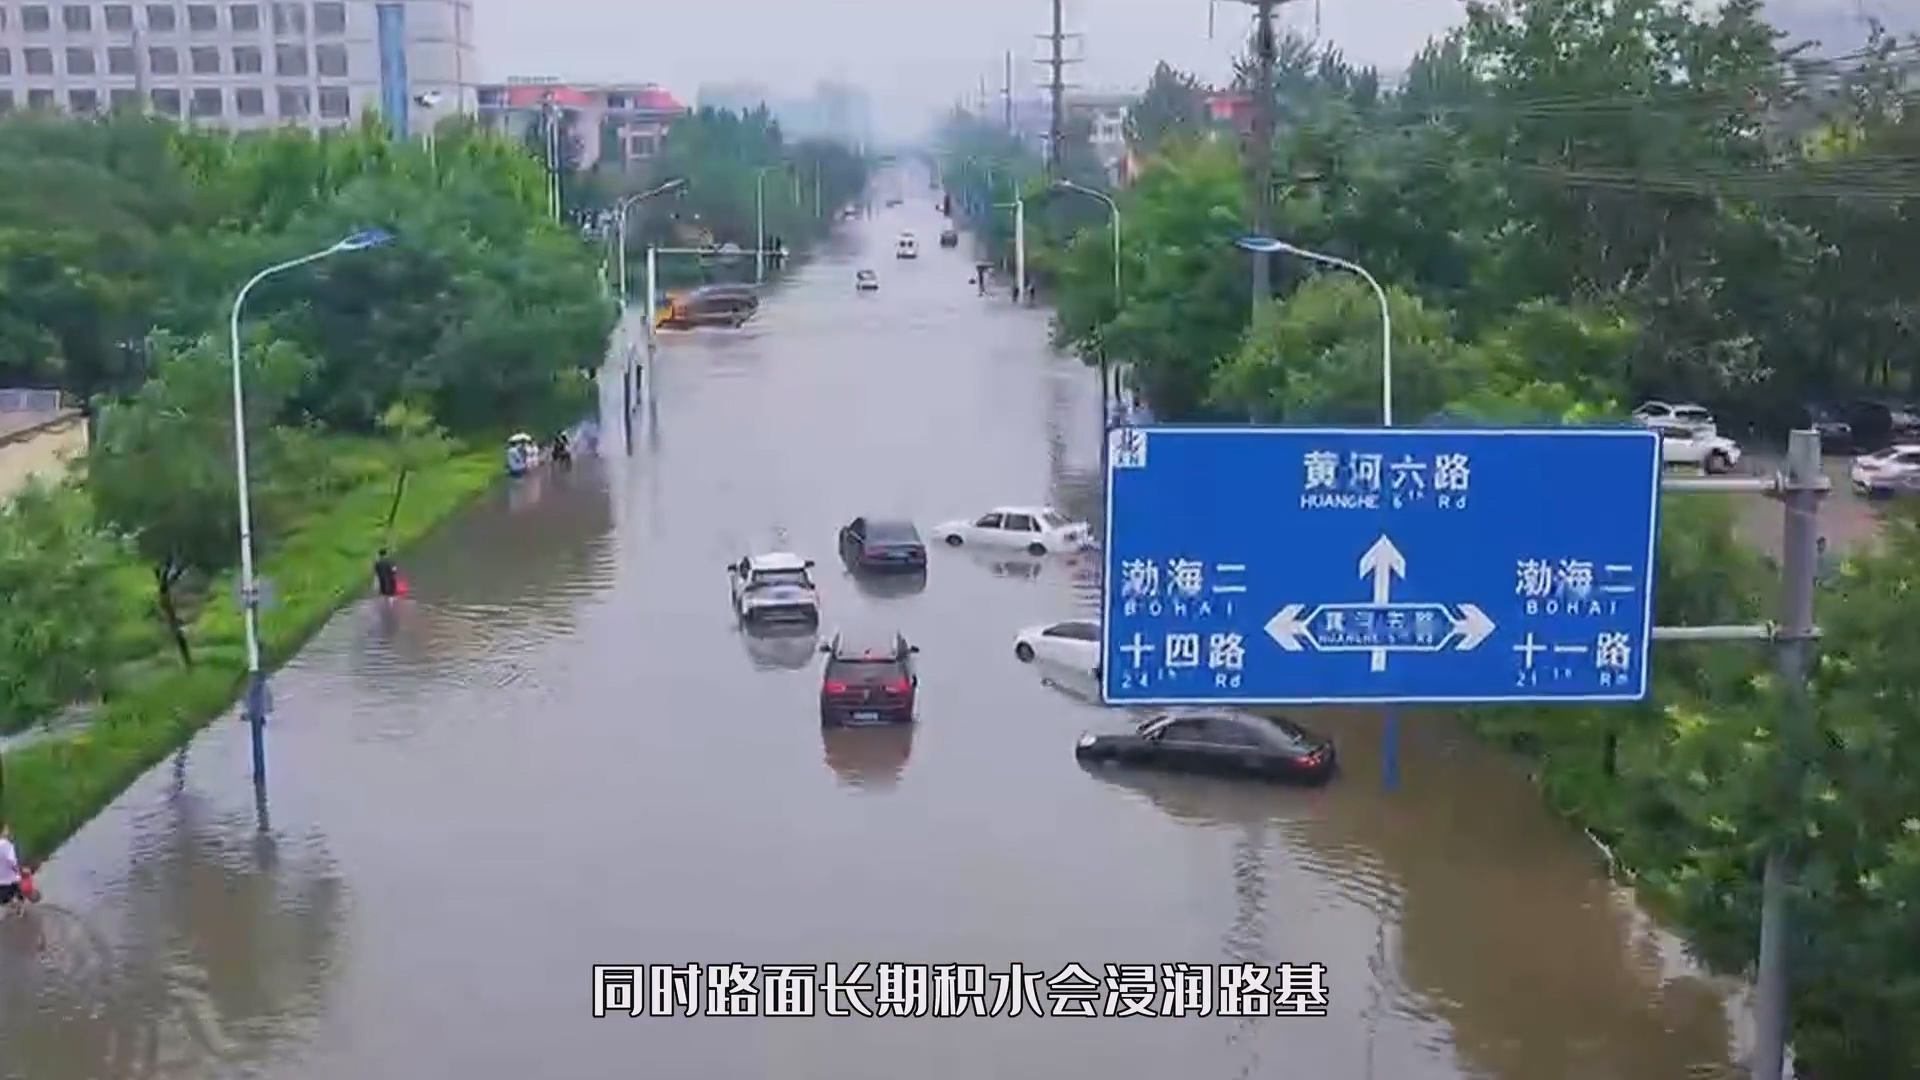puddle: (1, 720, 1800, 1080), (310, 351, 1102, 802)
